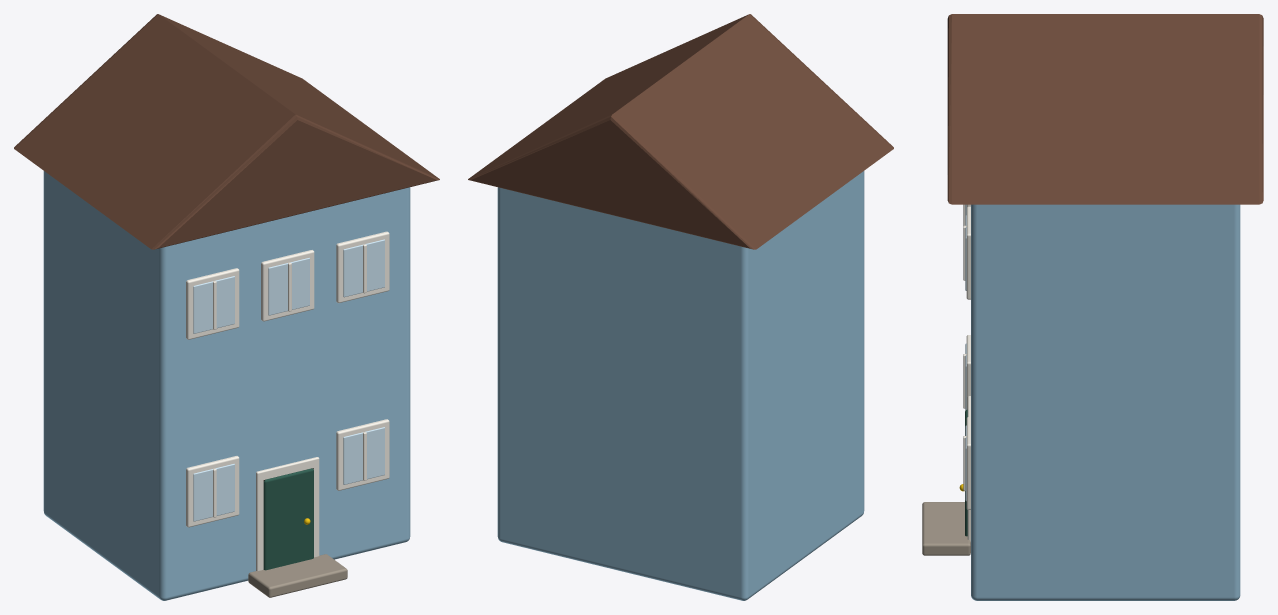
The model's file is maison_bleue.glb.
3 renders of one model, left to right at view 1: azimuth 30°, elevation 25°; view 2: azimuth 150°, elevation 25°; view 3: azimuth 270°, elevation 25°, orthographic. The views are drawn at different scales.
Visible parts, largest first — view 1: house; view 2: house; view 3: house.
Part boxes in pixels (<box>): house: <box>14,14,439,600</box>; house: <box>468,14,893,600</box>; house: <box>922,14,1263,600</box>.
Bounding box in the file's own units: 6.92 × 10.66 × 6.33.
